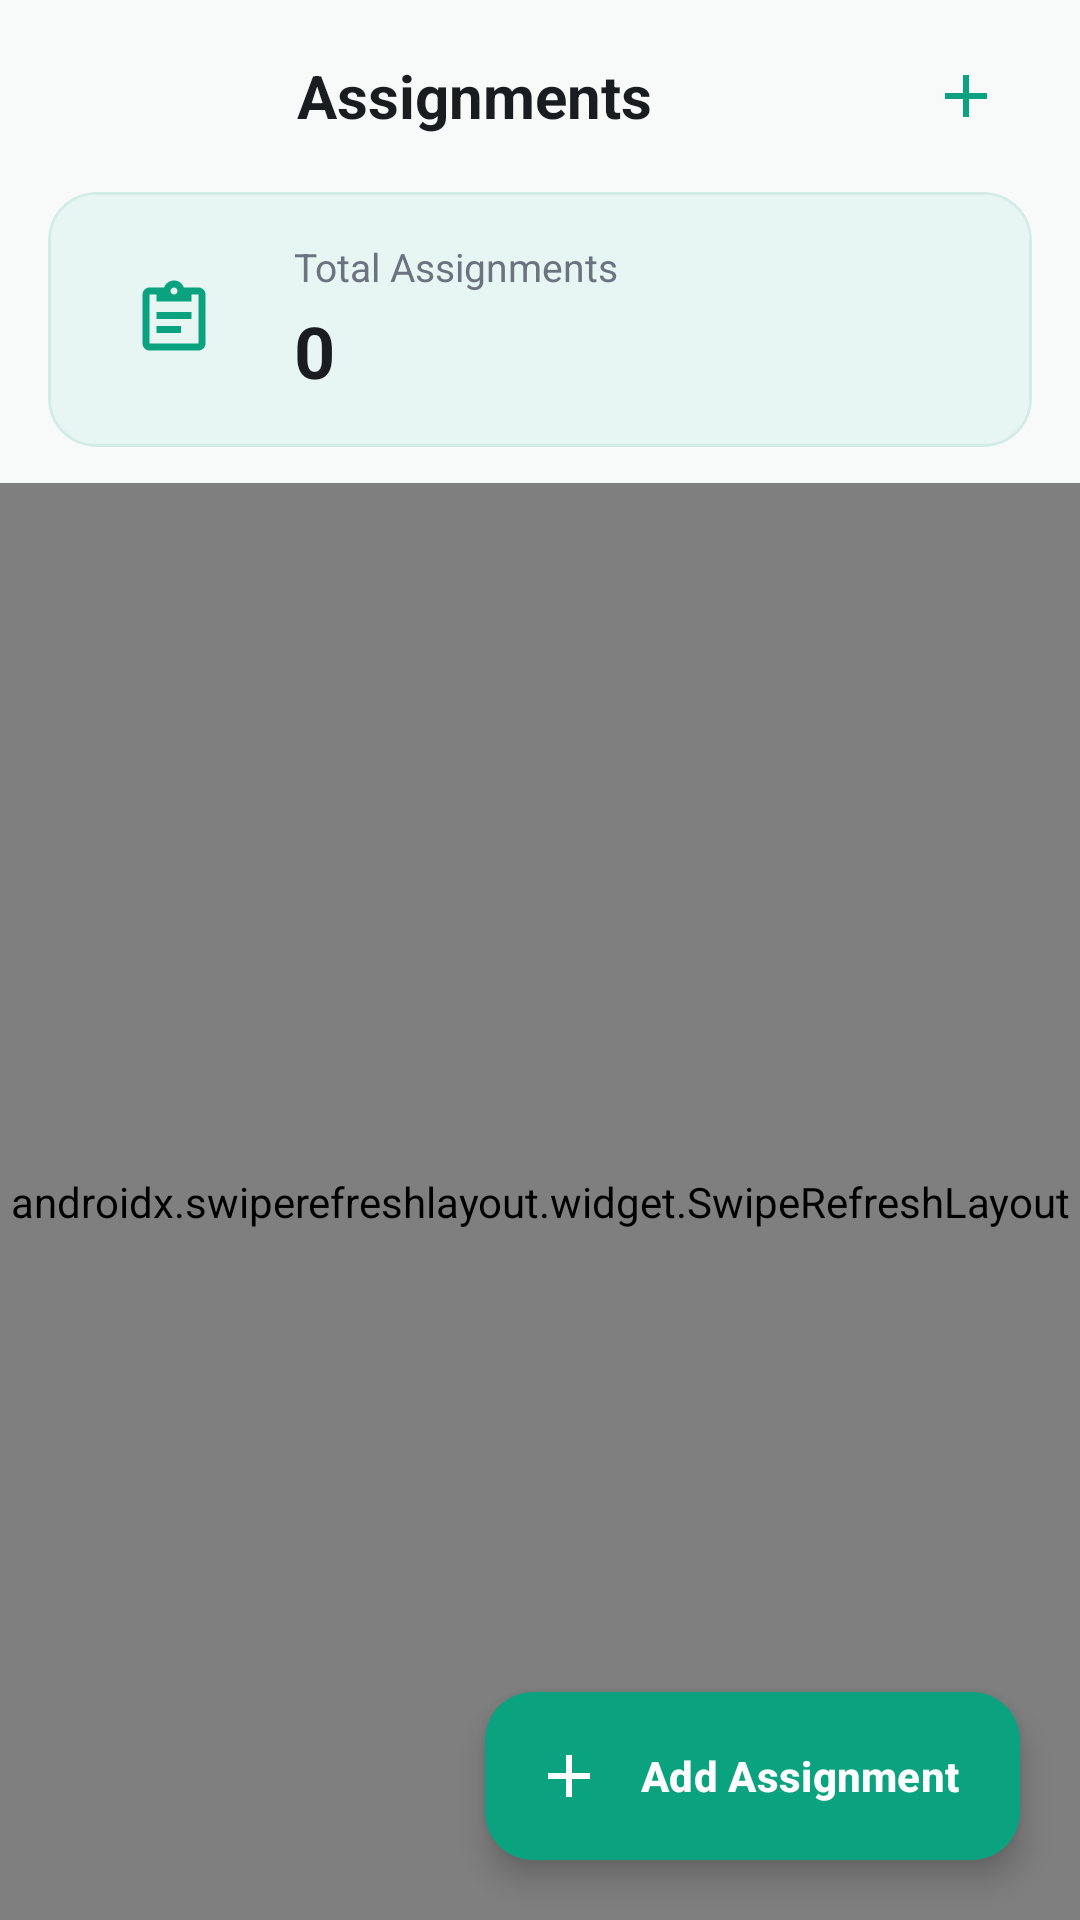

Point at icon controls on the screen. Image size 1080x1920, points as (x=x, y=y).
Add Assignment: (x=966, y=96)
